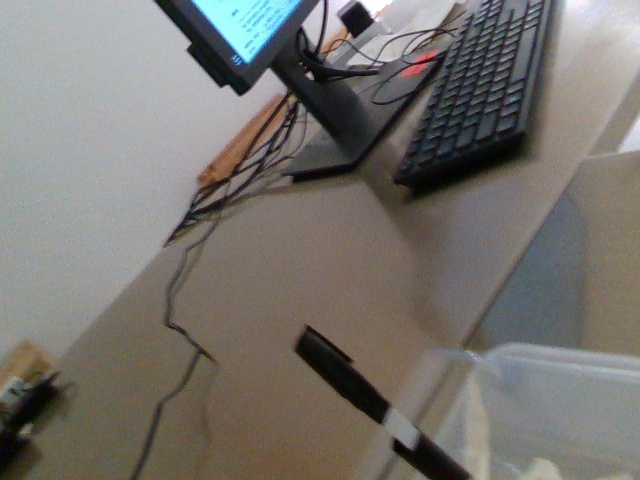test_strip: (291, 325, 421, 452)
